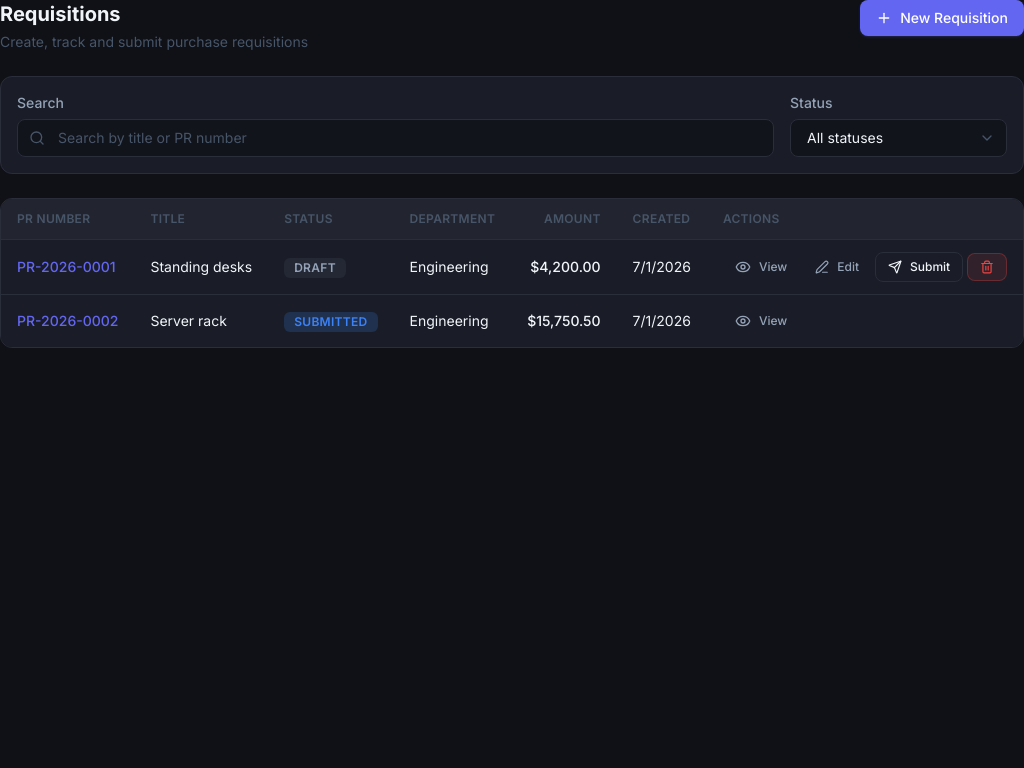
Test: RequisitionListPage › asks for confirmation before deleting
The image size is (1024, 768).
What coordinates should you click on to do the following:
click the button named "delete PR-2026-0001"
I would click on:
 (987, 267)
Its box is x1=967 y1=253 x2=1007 y2=281.
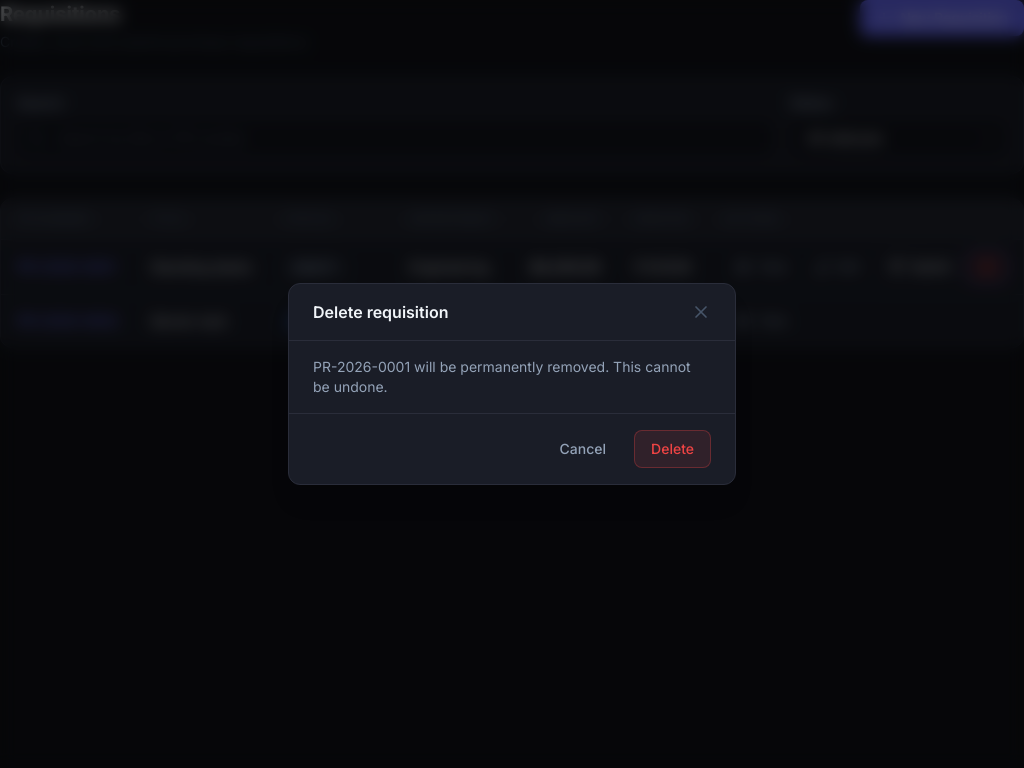
Check: the dialog "Delete requisition" is shown, box x1=288 y1=283 x2=736 y2=485
